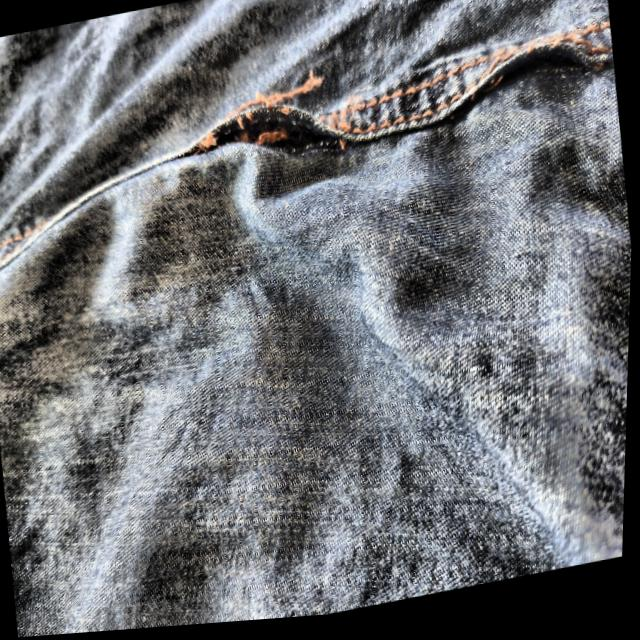seam: (174, 70, 372, 193), (432, 15, 614, 137)
